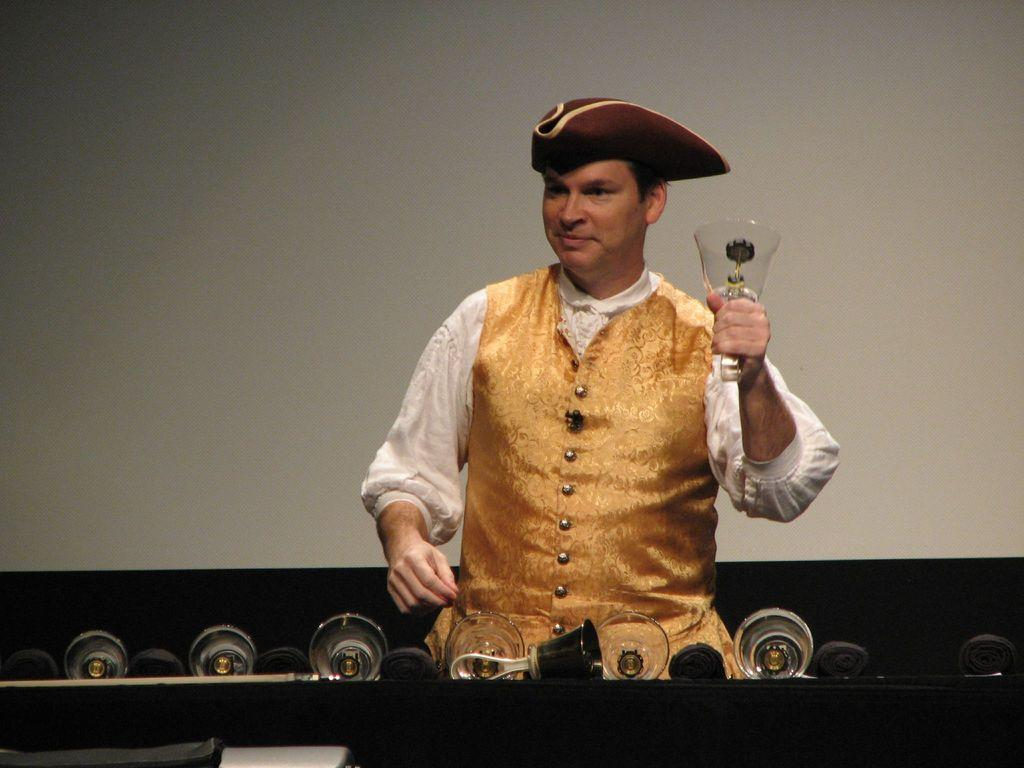Hat: (530, 95, 732, 182)
